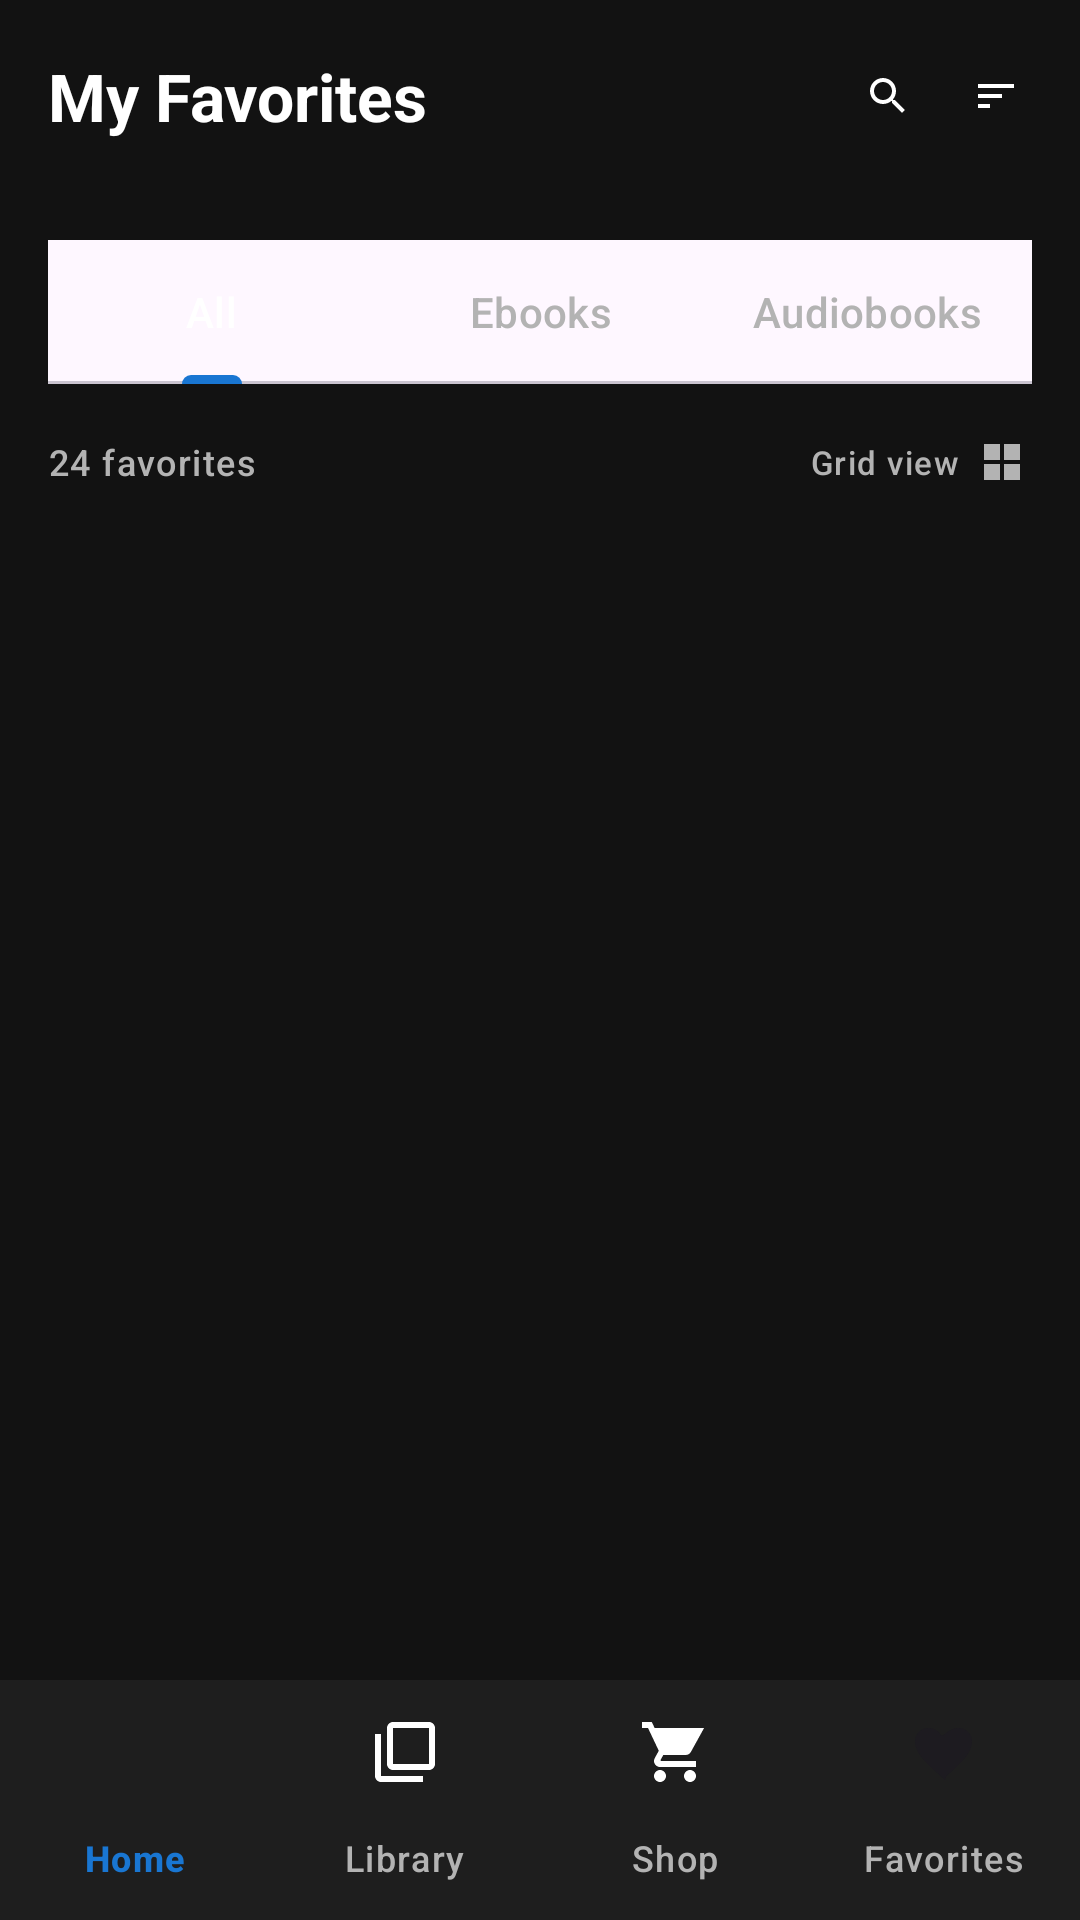

Icon click points for this 1080w x 1920h phone screenshot, format [x,y]:
Search Favorites: [887,95]
Sort Favorites: [996,96]
